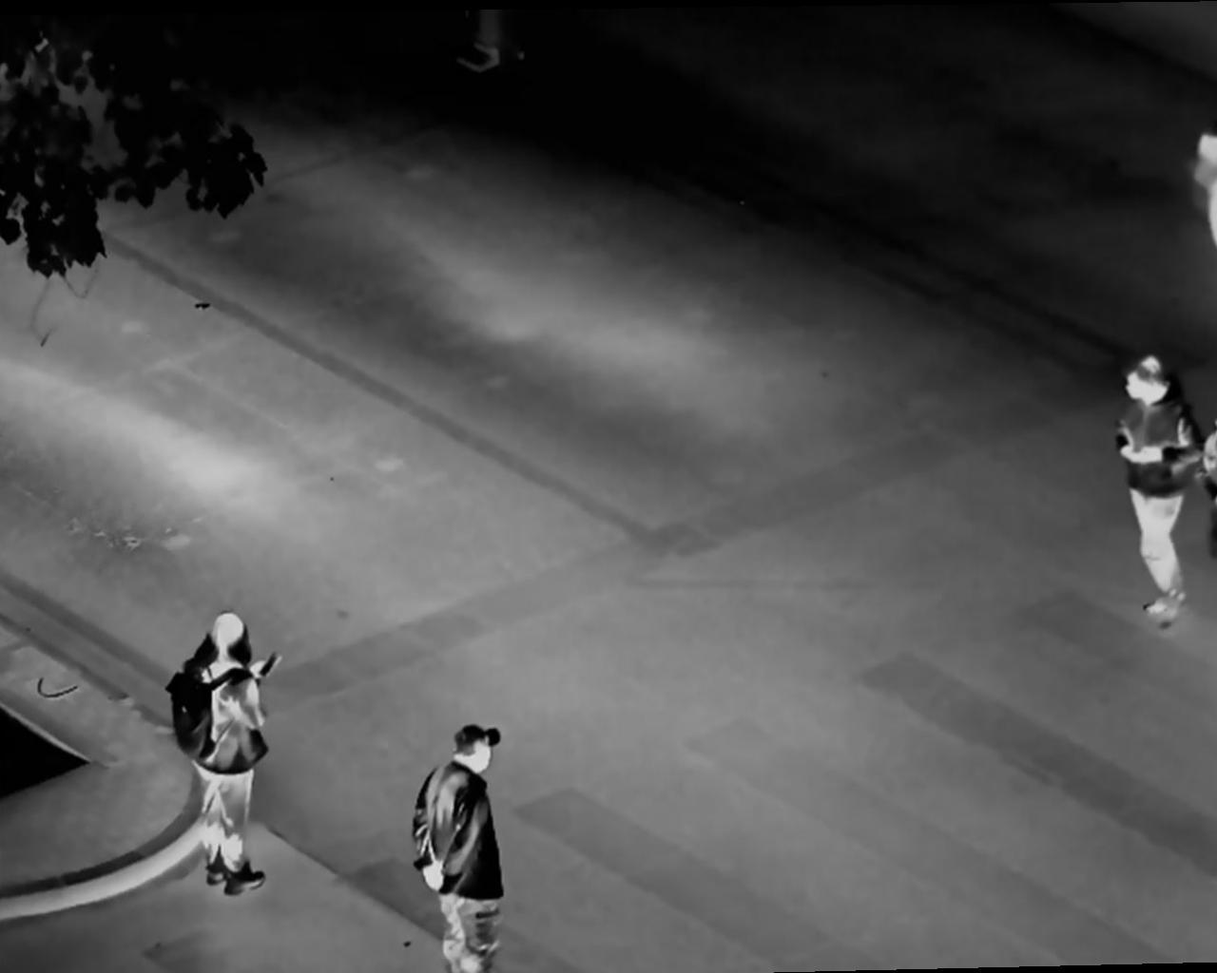person: (164, 610, 294, 906), (400, 714, 537, 972), (1106, 350, 1200, 633)
